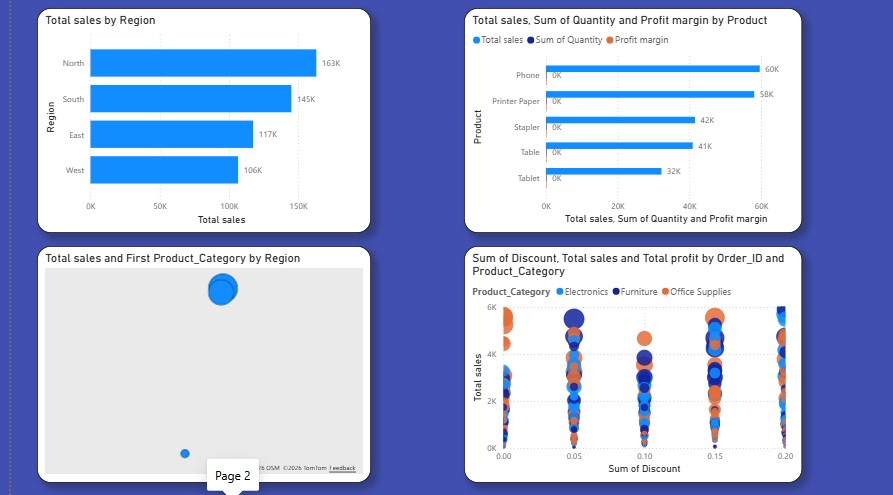

The dashboard page shown, as its layout file describes it:
{"tool":"powerbi","page":{"name":"Page 2","canvas":[1280,720],"ordinal":1},"visuals":[{"type":"clusteredBarChart","fields":{"Category":["ecommerce_powerbi_practice_dataset (2).Region"],"Y":["ecommerce_powerbi_practice_dataset (2).total sales"]},"box":[37.4,17.3,481,324],"z":0},{"type":"clusteredBarChart","fields":{"Category":["ecommerce_powerbi_practice_dataset (2).Product"],"Y":["ecommerce_powerbi_practice_dataset (2).total sales","Sum(ecommerce_powerbi_practice_dataset (2).Quantity)","ecommerce_powerbi_practice_dataset (2).Profit margin"]},"box":[652.3,17.3,486.7,324],"z":1000},{"type":"azureMap","fields":{"Category":["ecommerce_powerbi_practice_dataset (2).Region"],"Size":["ecommerce_powerbi_practice_dataset (2).total sales"]},"box":[37.4,360,481,341.3],"z":2000},{"type":"scatterChart","fields":{"X":["Sum(ecommerce_powerbi_practice_dataset (2).Discount)"],"Y":["ecommerce_powerbi_practice_dataset (2).total sales"],"Category":["ecommerce_powerbi_practice_dataset (2).Order_ID"],"Size":["ecommerce_powerbi_practice_dataset (2).Total profit"],"Series":["ecommerce_powerbi_practice_dataset (2).Product_Category"]},"box":[652.3,360,486.7,341.3],"z":3000}]}

Visuals, with their boxes in screenshot pixels (x1, y1, x2, y2), scaled from the page's 1280x720 canvas onto the 893x495 screenshot:
clusteredBarChart - ecommerce_powerbi_practice_dataset (2).Region x ecommerce_powerbi_practice_dataset (2).total sales: left=26, top=12, right=362, bottom=235
clusteredBarChart - ecommerce_powerbi_practice_dataset (2).Product x ecommerce_powerbi_practice_dataset (2).total sales: left=455, top=12, right=795, bottom=235
azureMap - ecommerce_powerbi_practice_dataset (2).Region x ecommerce_powerbi_practice_dataset (2).total sales: left=26, top=248, right=362, bottom=482
scatterChart - Sum(ecommerce_powerbi_practice_dataset (2).Discount) x ecommerce_powerbi_practice_dataset (2).total sales: left=455, top=248, right=795, bottom=482
